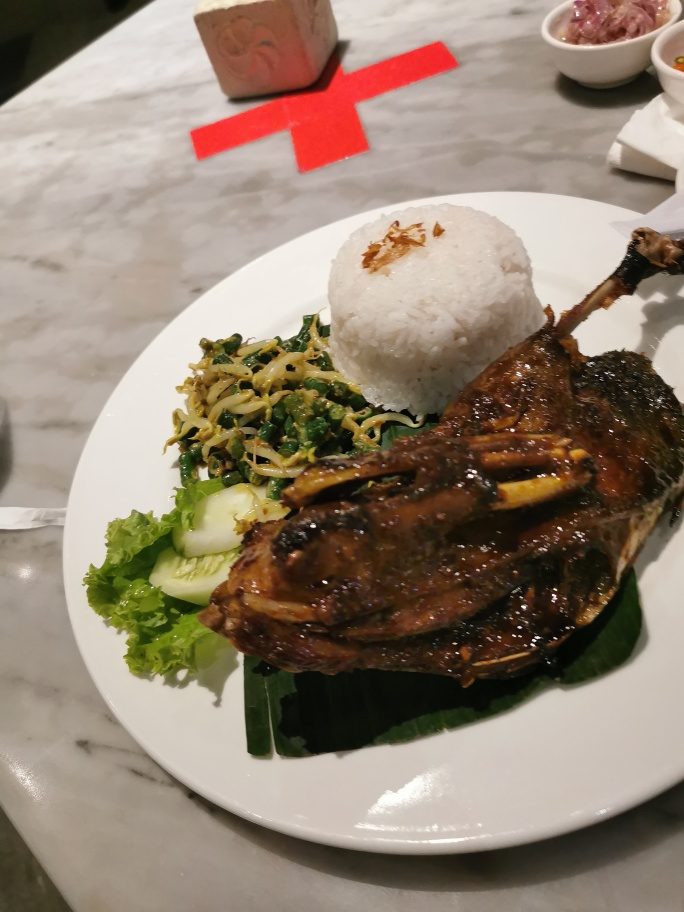bebek bakar: (228, 229, 684, 667)
nasi putih: (325, 203, 563, 408)
